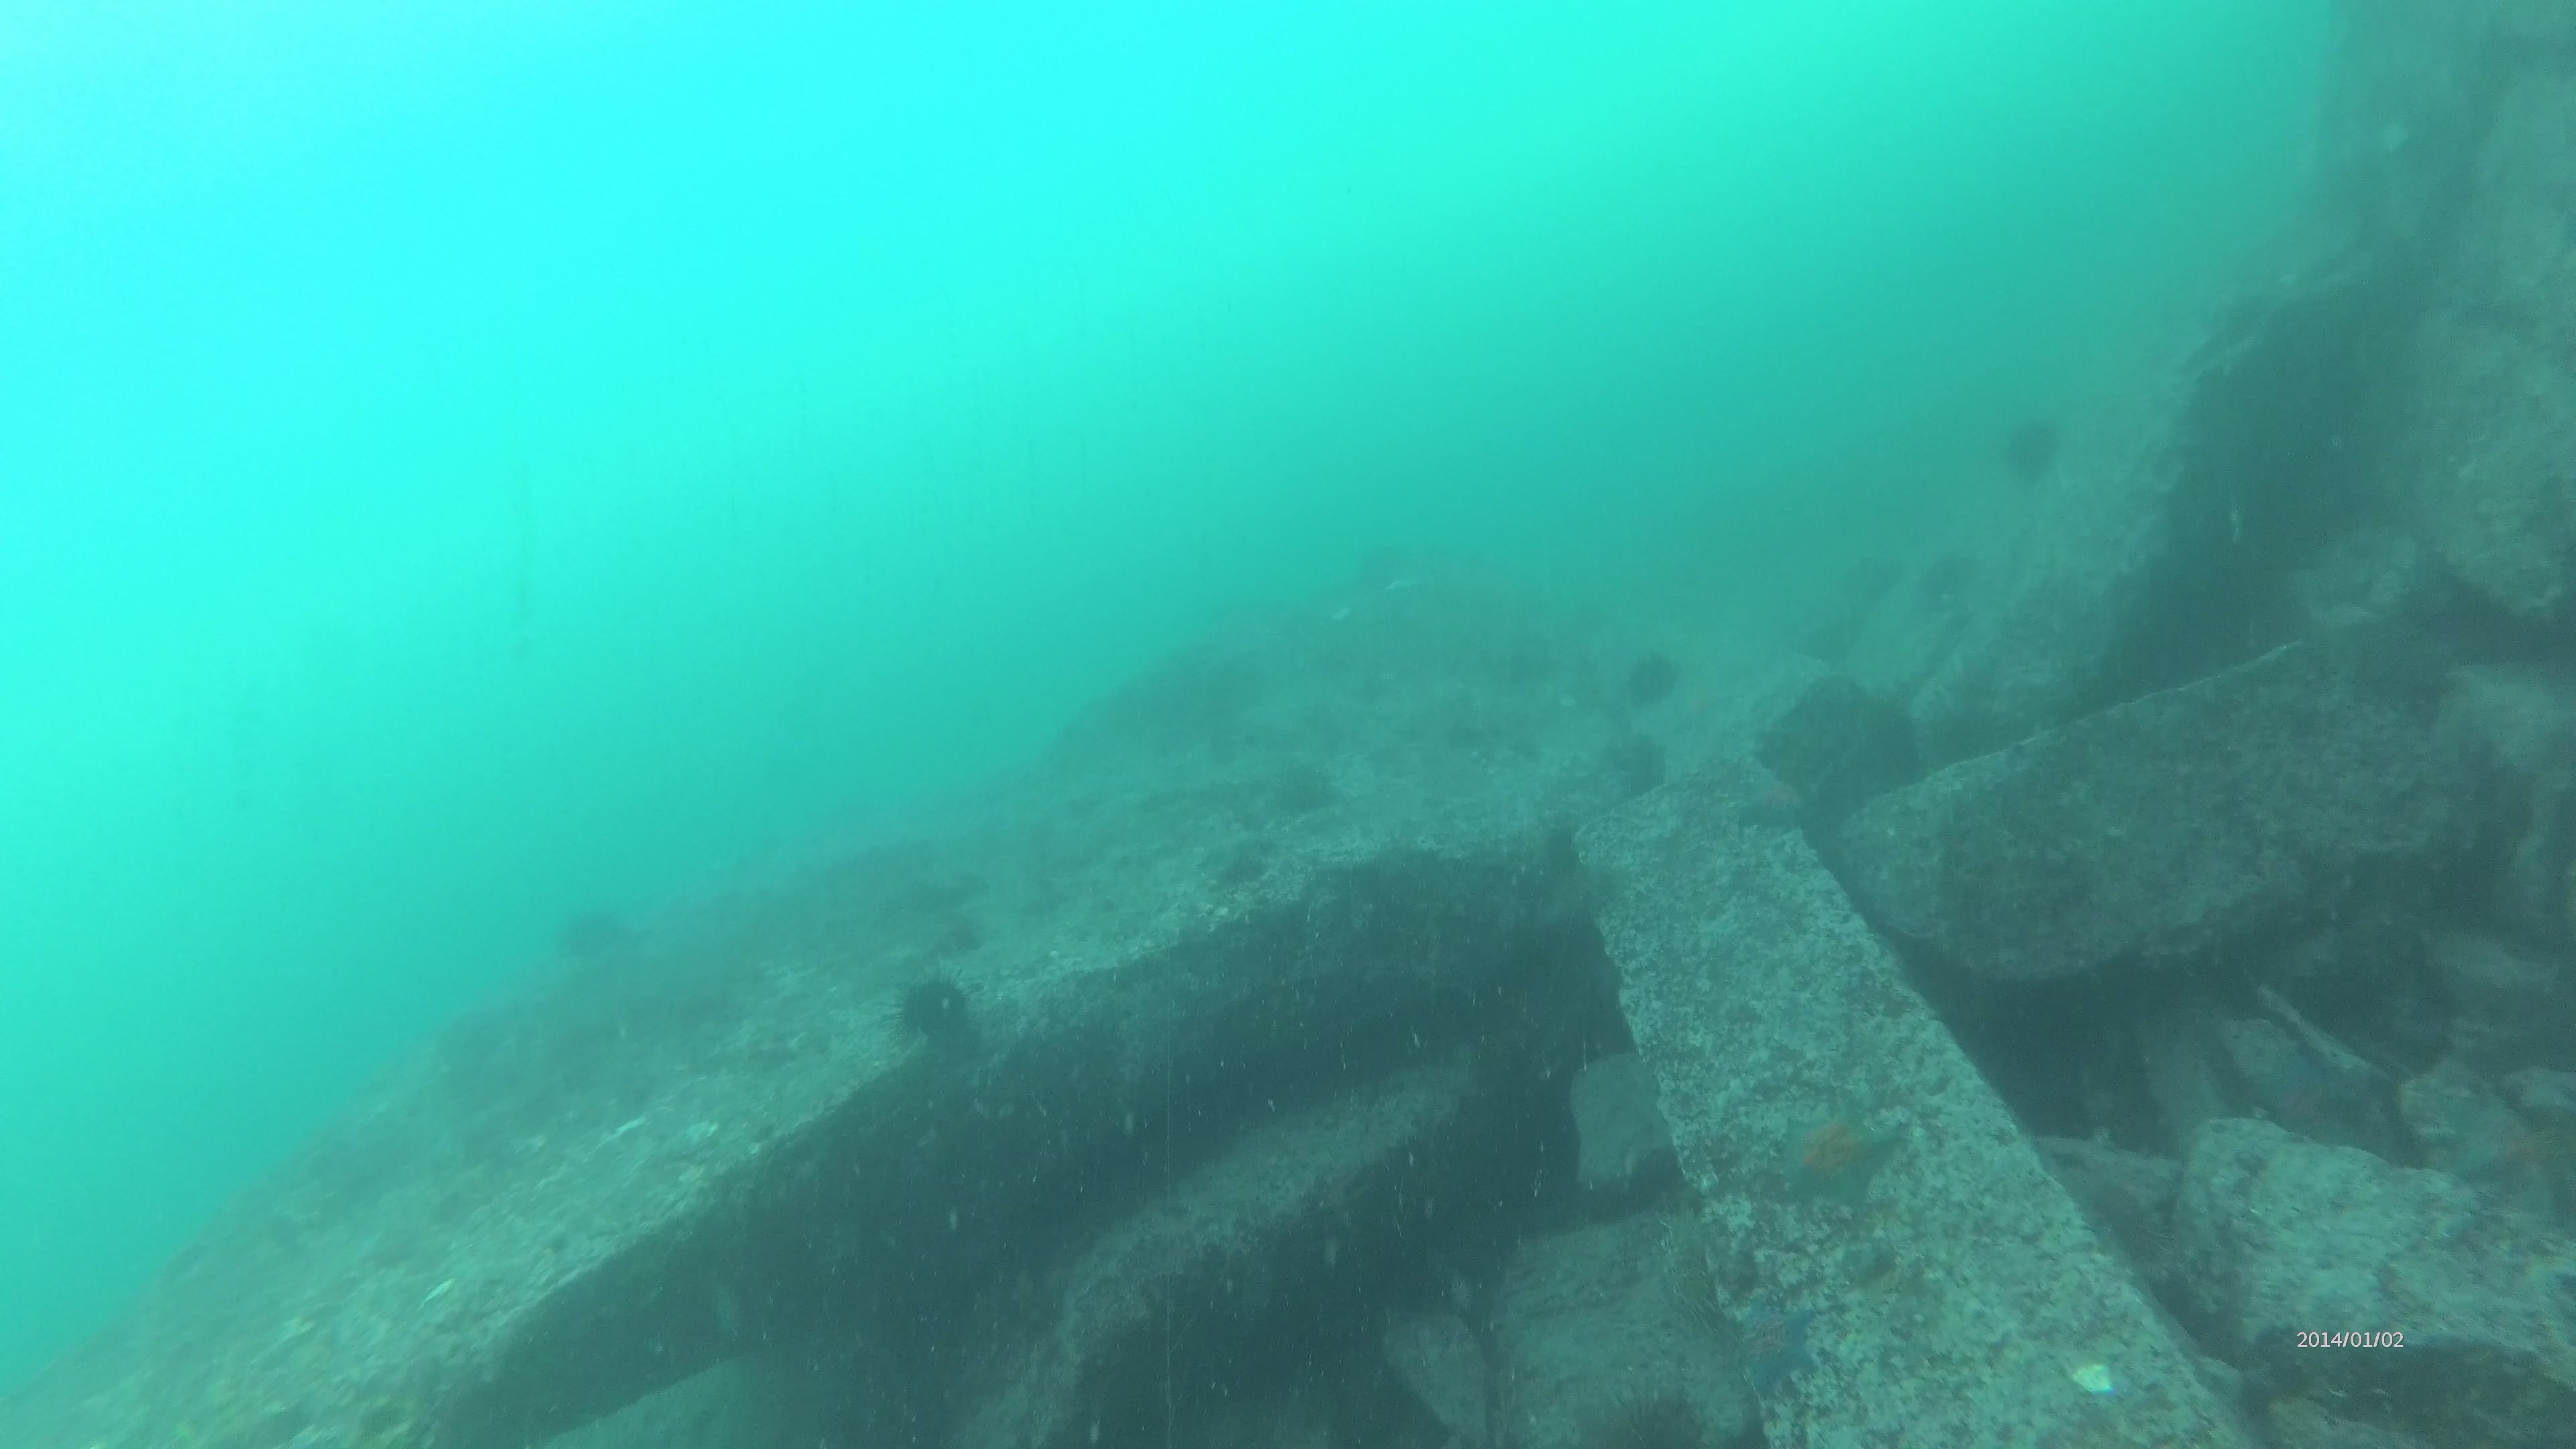echinus: (1594, 1380, 1716, 1449), (895, 973, 991, 1042), (1992, 414, 2059, 481), (550, 911, 628, 966), (1276, 766, 1348, 824), (1617, 653, 1688, 702)
starfish: (1755, 1097, 1907, 1200), (1732, 1293, 1831, 1399)
